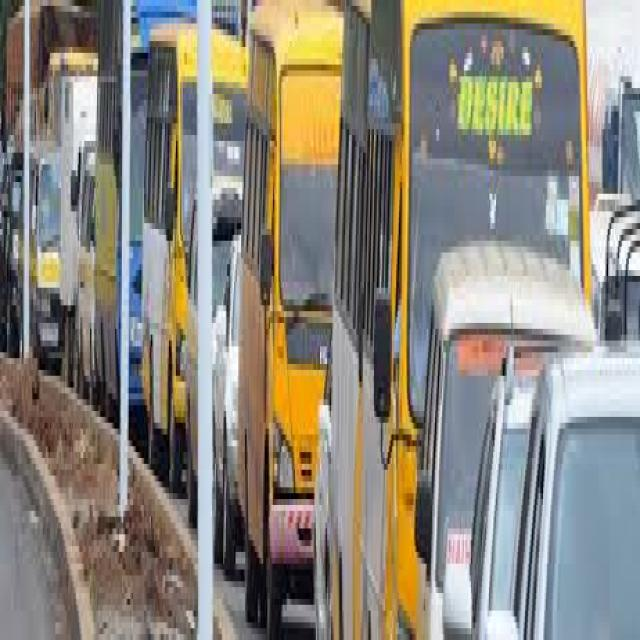bus: (242, 0, 330, 640), (336, 0, 413, 640), (141, 5, 210, 470), (100, 1, 138, 466), (78, 133, 97, 380)
matatu: (424, 214, 480, 638), (28, 137, 66, 390)
